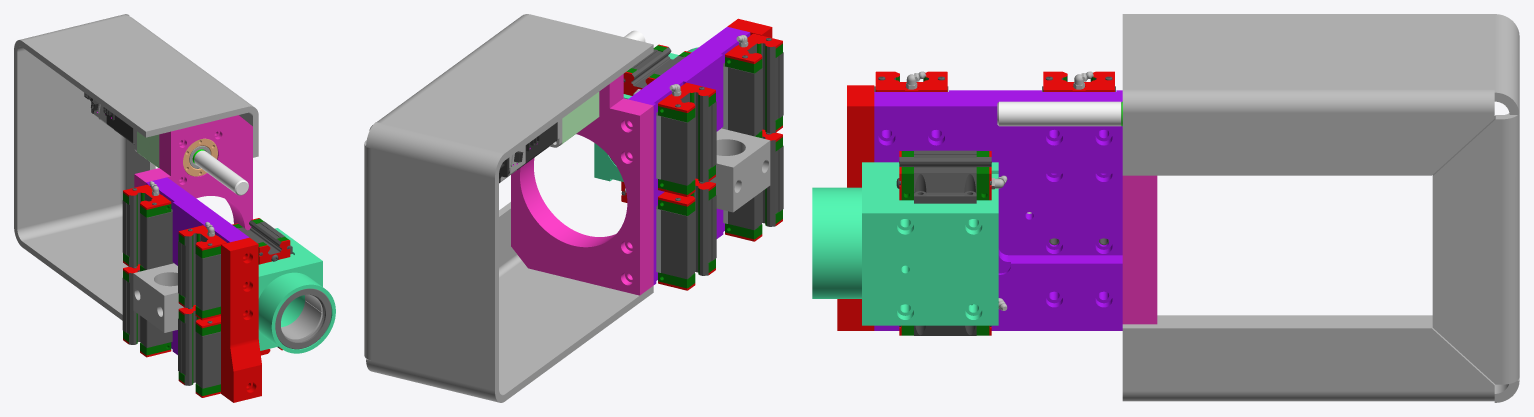
The model's file is PecaEsquerdaDireita.obj.
3 renders of one model, left to right at view 1: azimuth 30°, elevation 25°; view 2: azimuth 150°, elevation 25°; view 3: azimuth 270°, elevation 25°, orthographic. The views are drawn at different scales.
Parts seen in each view (by area): view 1: Corpo78, Corpo38, Corpo77, Corpo37, Corpo17, Corpo22, Corpo27, Corpo39, Corpo36, Corpo12, Corpo7, Corpo35 (+5 smaller); view 2: Corpo78, Corpo77, Corpo17, Corpo22, Corpo12, Corpo36, Corpo39, Corpo27, Corpo7, Corpo1, Corpo41, Corpo37 (+1 smaller); view 3: Corpo78, Corpo36, Corpo37, Corpo77, Corpo7, Corpo38, Corpo40, Corpo22, Corpo17, Corpo2.
Boxes of the visible parts, x1,y1,x2,y2 form: Corpo78: (14,14,258,320); Corpo38: (221,237,261,402); Corpo77: (134,115,252,230); Corpo37: (258,228,335,353); Corpo17: (122,181,174,271); Corpo22: (178,222,226,320); Corpo27: (178,305,220,397); Corpo39: (133,263,183,332); Corpo36: (146,177,249,354); Corpo12: (122,264,172,357); Corpo7: (232,218,292,264); Corpo35: (275,288,331,349); Corpo78: (364,14,653,402); Corpo77: (511,74,653,295); Corpo17: (656,82,716,196); Corpo22: (721,33,783,137); Corpo12: (656,178,716,290); Corpo36: (628,26,750,284); Corpo39: (709,128,770,212); Corpo27: (723,129,783,241); Corpo7: (623,44,691,95); Corpo1: (499,119,562,183); Corpo41: (560,92,599,145); Corpo37: (594,47,698,181); Corpo78: (1122,14,1519,402); Corpo36: (874,90,1122,330); Corpo37: (812,162,998,325); Corpo77: (1122,175,1157,324); Corpo7: (896,150,1007,203); Corpo38: (837,85,874,330); Corpo40: (997,101,1121,126); Corpo22: (874,71,948,91); Corpo17: (1042,71,1115,91); Corpo2: (899,298,1007,335).
Bounding box in the file's own units: 213 × 276 × 570.
